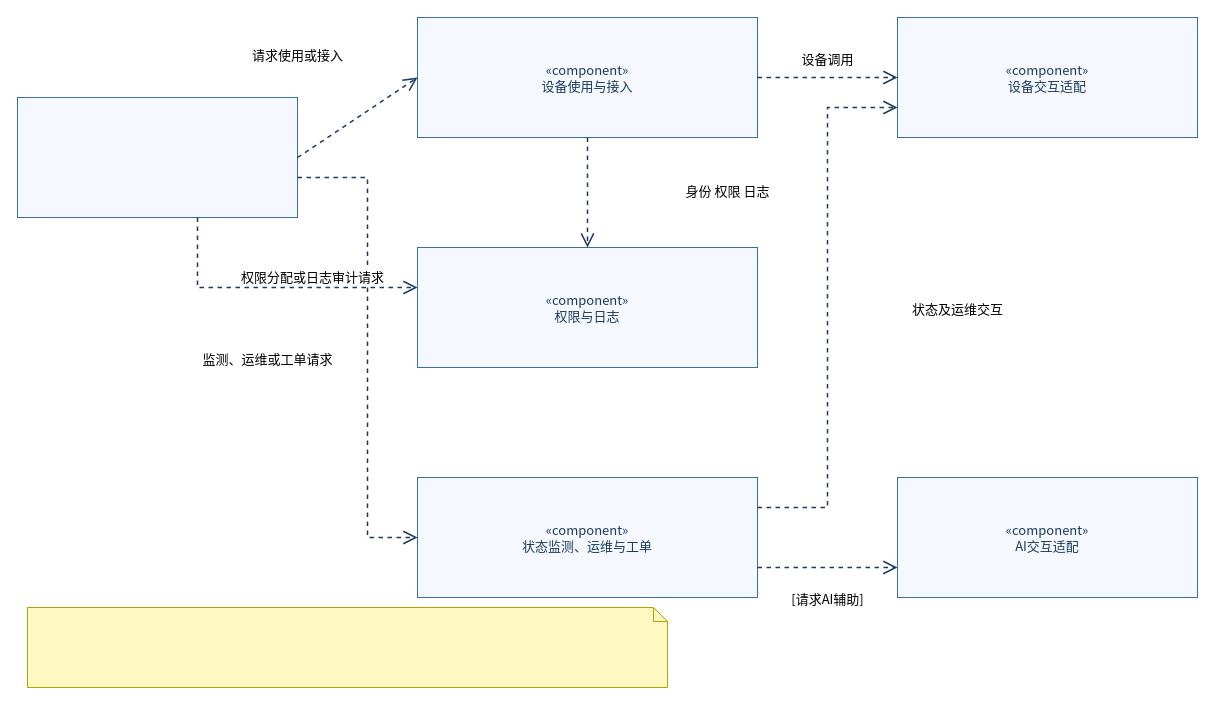
The diagram is 1215 pixels wide and 705 high, and some of its shapes have lost their labels. The shapes that lost their labels are listed below. From the top down, each one's centre as x and y in pixels, then its label:
point 157,157: «component» 用户交互
point 347,647: 构件按职责划分，不意味独立进程或微服务； 部署节点、数据库位置与 AI 服务提供方仍待明确。
